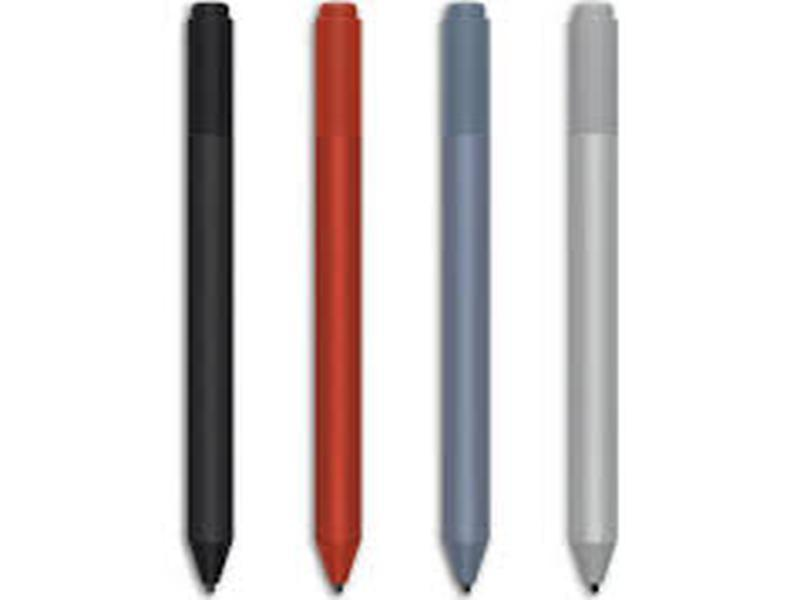qillqana: (301, 3, 378, 600), (432, 2, 505, 595), (552, 1, 625, 593), (177, 1, 248, 600)
